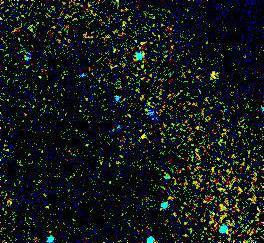star: (197, 62, 227, 92)
